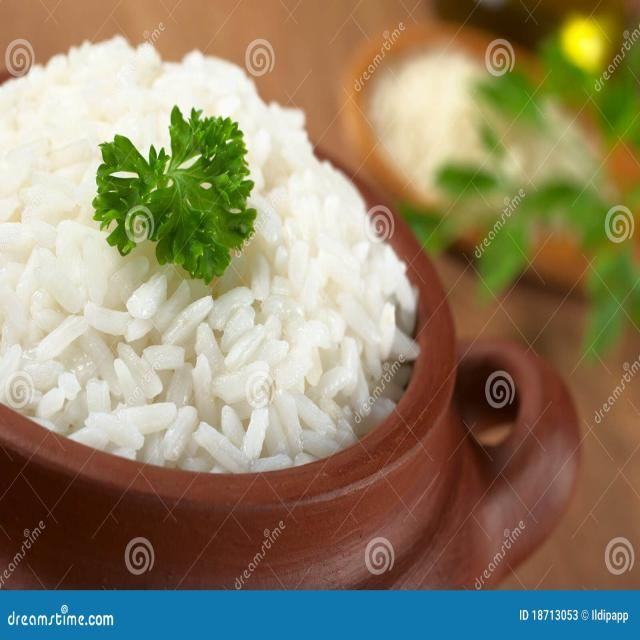arroz: (5, 37, 416, 500)
